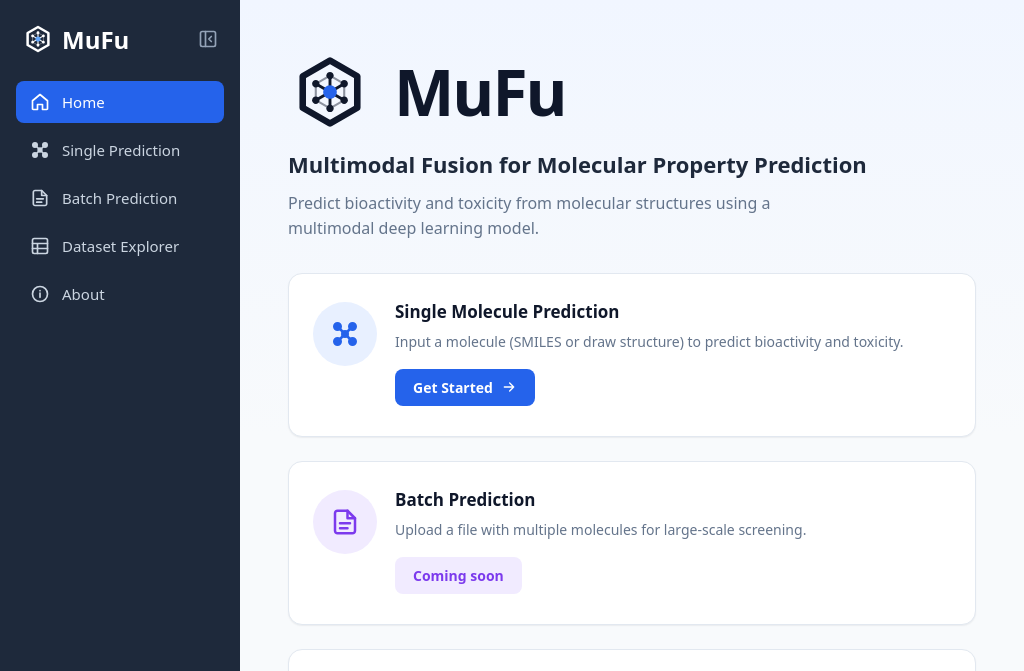
App › navigates with the sidebar, including Coming Soon routes
The image size is (1024, 671).
Click the link "Batch Prediction": {"x": 104, "y": 198} [30,188,177,208]
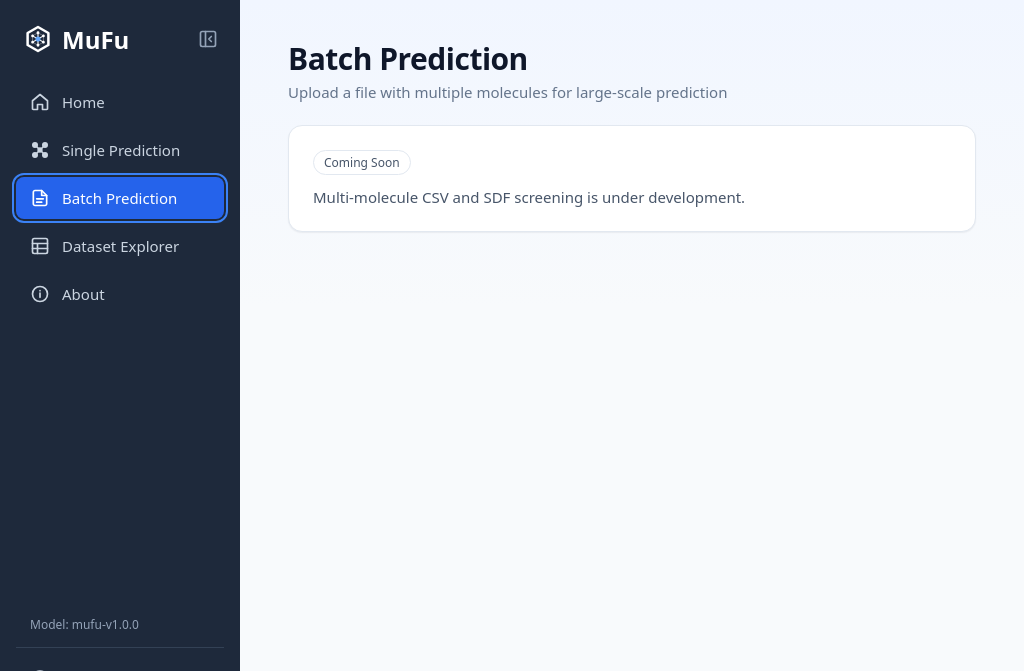
Expected: the text "Coming Soon" is shown, [313,150,411,175]
Expected: the heading "Batch Prediction" is shown, [288,38,528,79]
Click the link "Dataset Explorer": {"x": 105, "y": 246} [30,236,179,256]
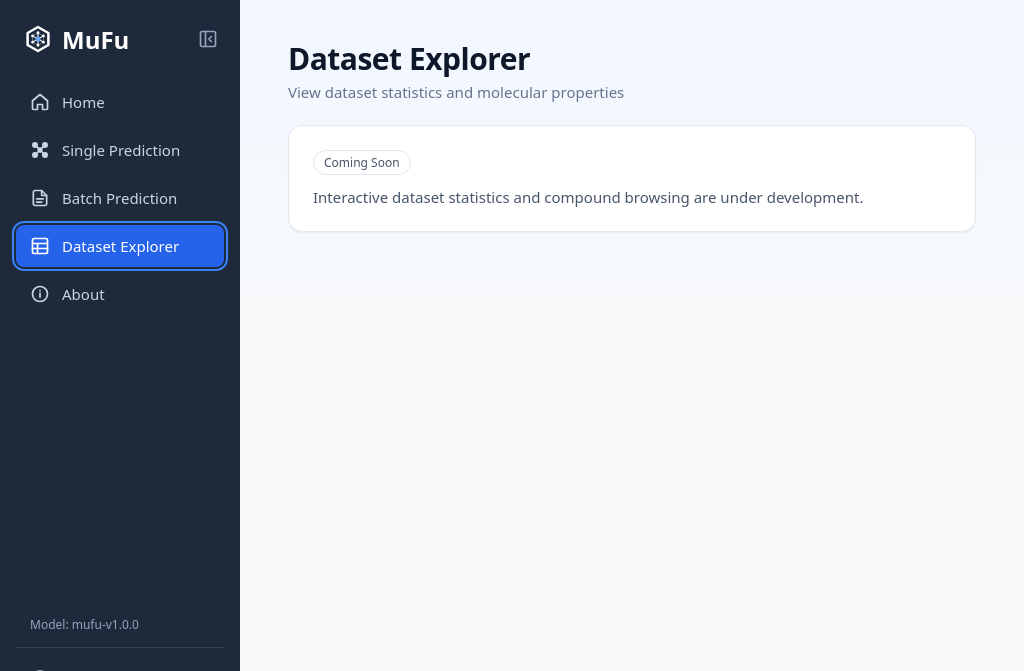
Expected: the text "Coming Soon" is shown, [313,150,411,175]
Expected: the heading "Dataset Explorer" is shown, [288,38,530,79]
Click the link "About": {"x": 67, "y": 294} [30,284,105,304]
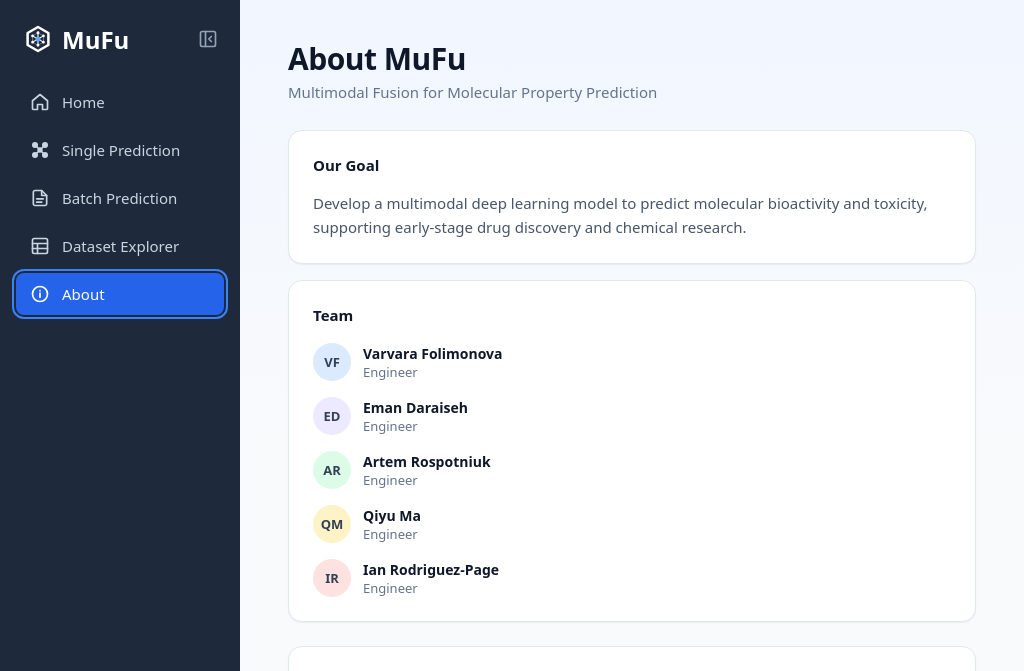
Expected: the heading "About MuFu" is shown, [288,38,466,79]
